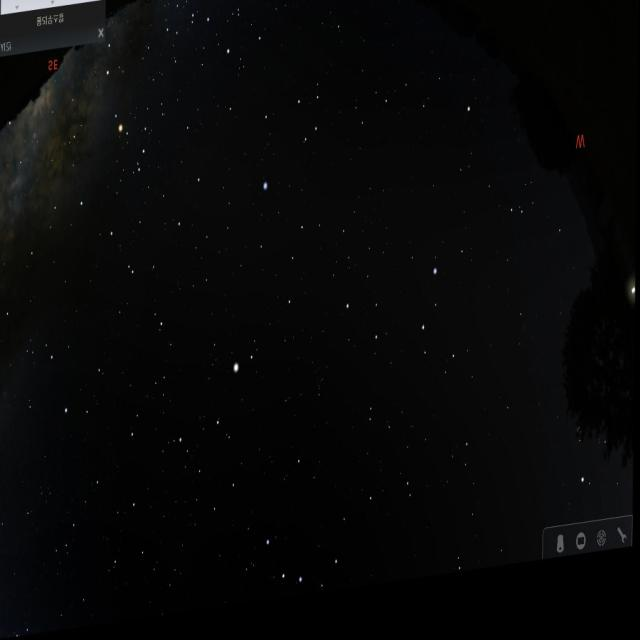bootes: (186, 359, 250, 541)
leo: (337, 257, 466, 416)
scorpius: (88, 41, 161, 200)
